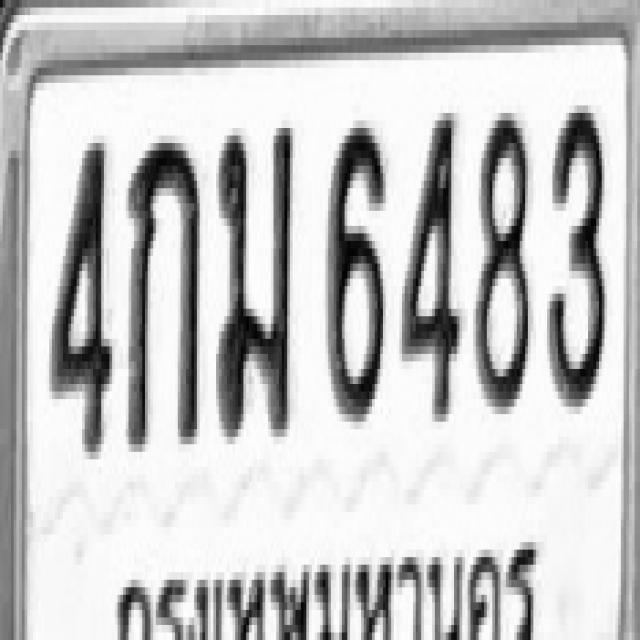10GorGai: (126, 132, 200, 448)
3: (546, 98, 606, 406)
4: (49, 132, 112, 456), (400, 106, 460, 422)
42MorMa: (215, 120, 294, 437)
6: (326, 120, 386, 422)
8: (473, 102, 531, 410)
